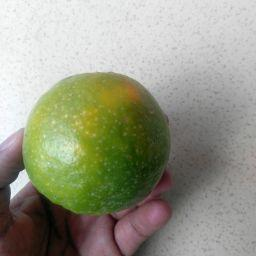Unripe: (20, 73, 171, 211)
